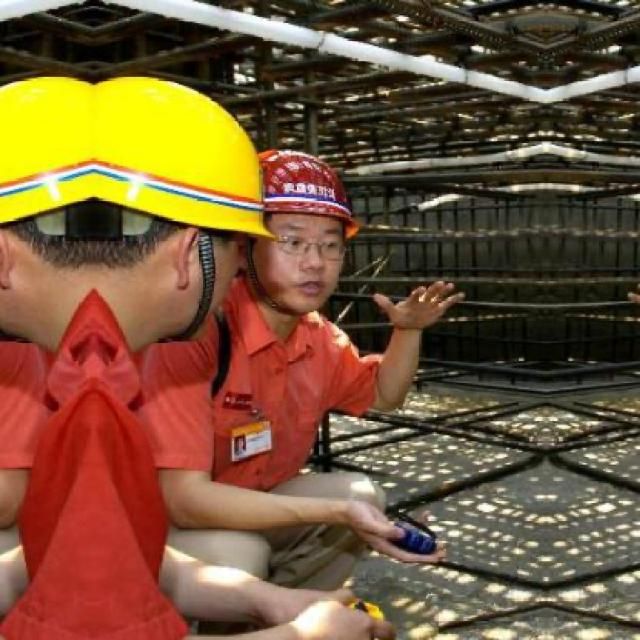con casco: (132, 89, 291, 337), (0, 72, 124, 347), (296, 147, 389, 305)
